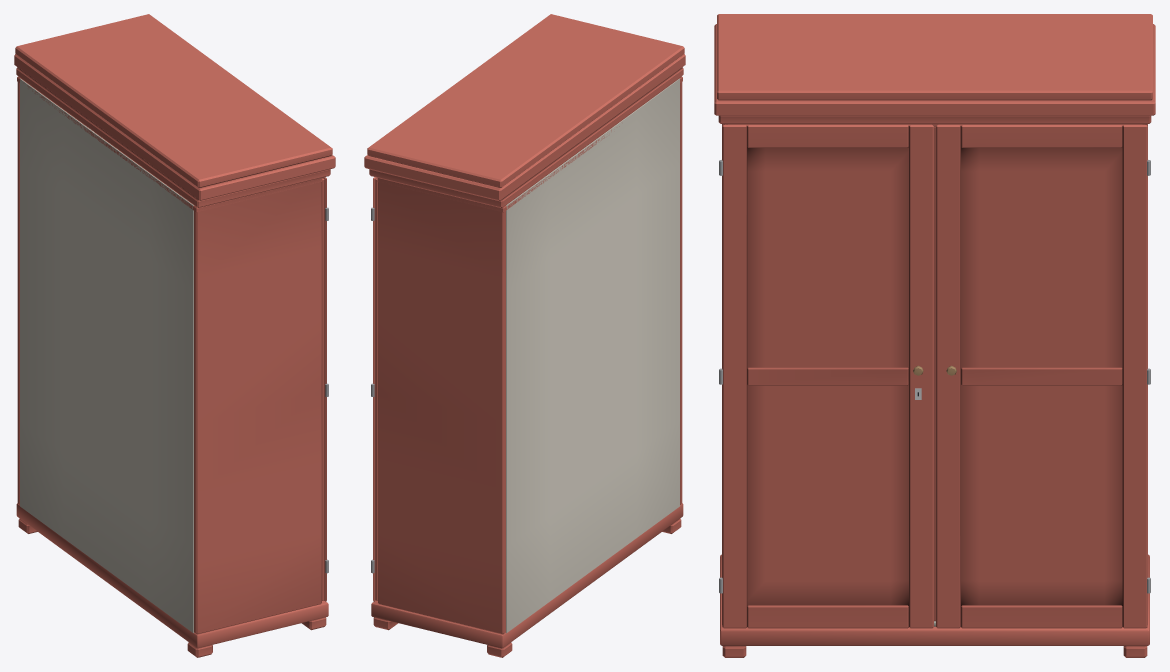
The model's file is wardrobe.glb.
3 views of the same model, side by side, from view 1: azimuth 30°, elevation 25°; view 2: azimuth 150°, elevation 25°; view 3: azimuth 270°, elevation 25° (orthographic). The views are drawn at different scales.
Visible parts, largest first — view 1: PART, DOOR_R; view 2: PART, DOOR_L; view 3: DOOR_L, DOOR_R, PART.
Part boxes in pixels (x1=…): PART: x1=14, y1=14, x2=335, y2=657; DOOR_R: x1=322, y1=177, x2=326, y2=601; PART: x1=364, y1=14, x2=685, y2=657; DOOR_L: x1=373, y1=177, x2=377, y2=601; DOOR_L: x1=936, y1=124, x2=1147, y2=628; DOOR_R: x1=722, y1=124, x2=933, y2=628; PART: x1=714, y1=14, x2=1155, y2=657.
Bounding box in the file's own units: 0.6 × 2 × 1.4.
